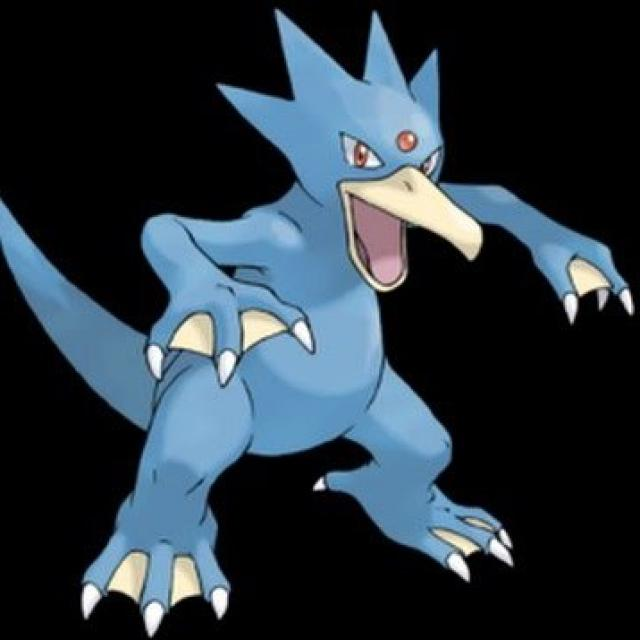Golduck: (86, 0, 555, 626)
